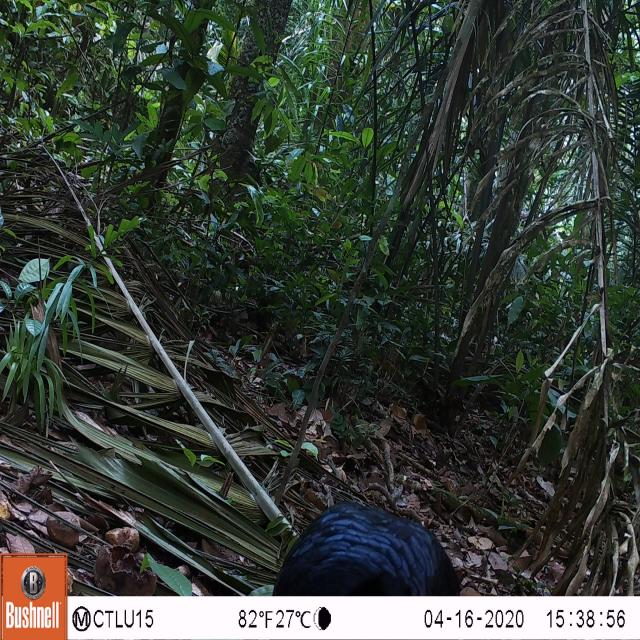Salvins Curassow: (261, 486, 466, 596)
